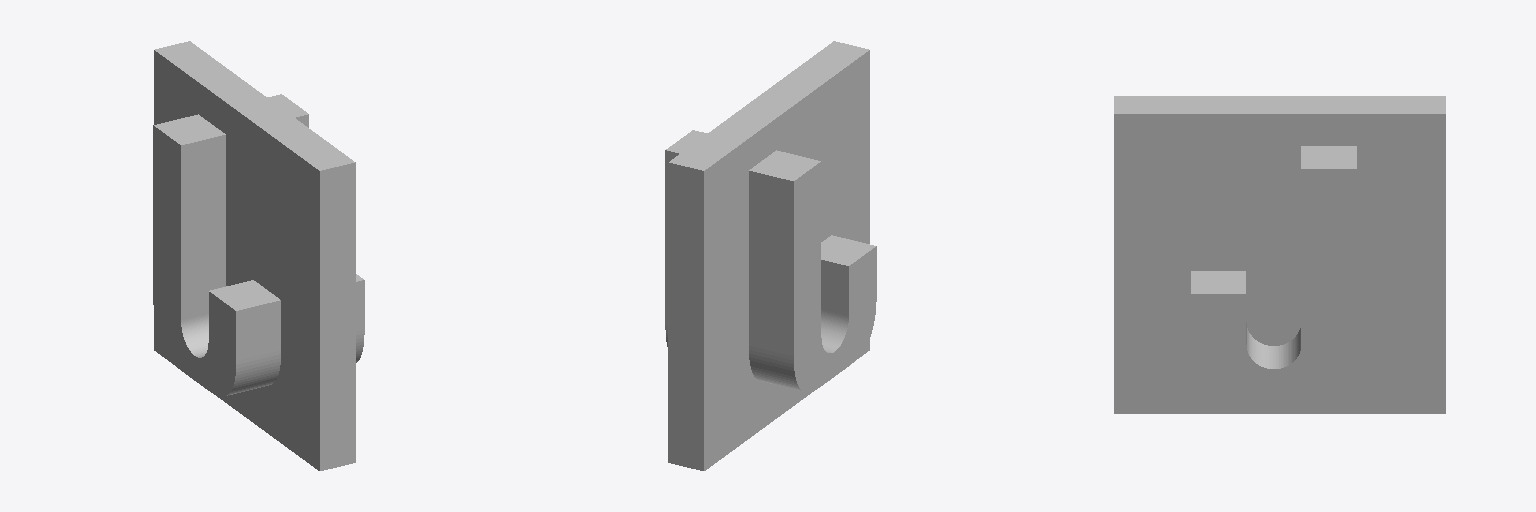
File: letter_J.obj
3 views of the same model, side by side, from view 1: azimuth 30°, elevation 25°; view 2: azimuth 150°, elevation 25°; view 3: azimuth 270°, elevation 25° (orthographic).
Visible parts, largest first — view 1: window, Text; view 2: window, Text; view 3: window, Text.
Boxes of the visible parts, x1=… form: window: x1=154, y1=41, x2=355, y2=470; Text: x1=153, y1=94, x2=364, y2=396; window: x1=668, y1=41, x2=869, y2=470; Text: x1=665, y1=130, x2=876, y2=391; window: x1=1114, y1=96, x2=1445, y2=413; Text: x1=1191, y1=146, x2=1356, y2=393.
Size of the model in its own units: 0.894 by 2 by 2.